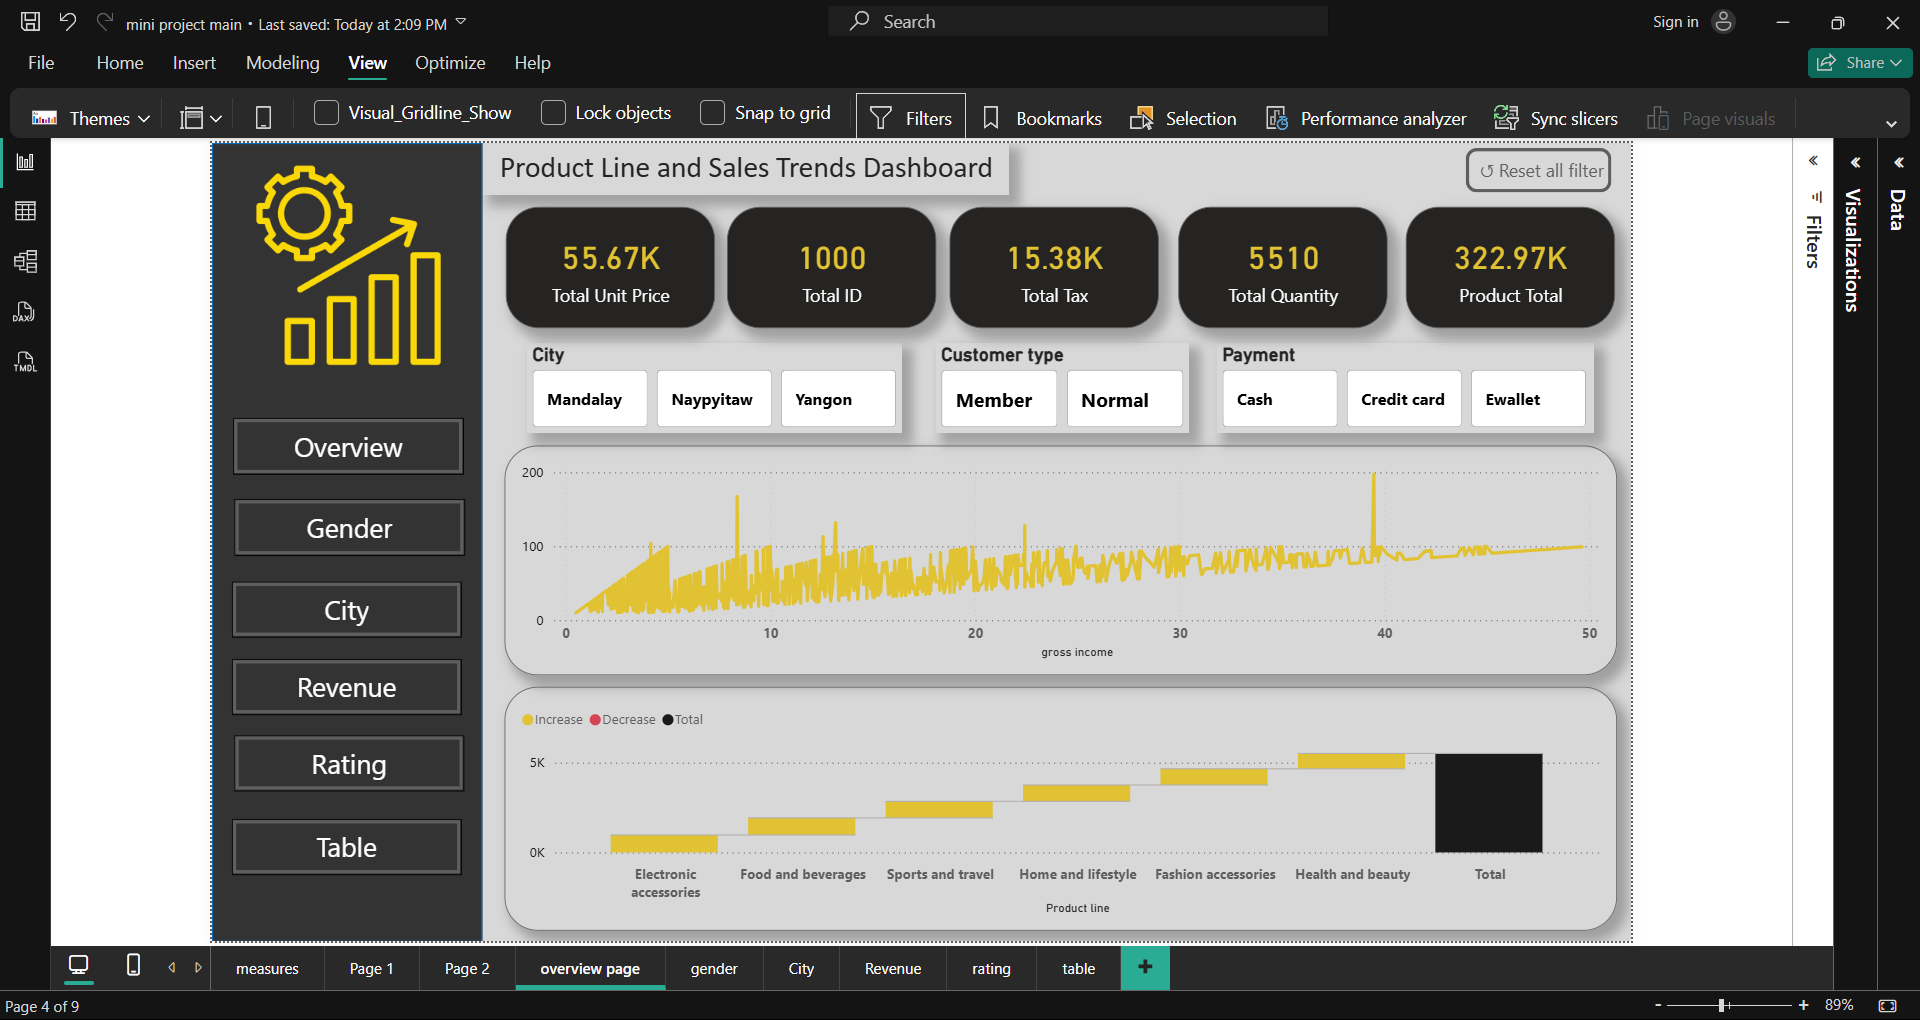

The dashboard page shown, as its layout file describes it:
{"tool":"powerbi","page":{"name":"overview page","canvas":[1280,720],"ordinal":3},"visuals":[{"type":"shape","box":[0,0,243.8,720.3],"z":0},{"type":"textbox","box":[244.3,0,474.3,47.1],"z":1000},{"type":"card","fields":{"Values":["Sheet1.Product Total"]},"box":[1076,57.2,189.1,109.5],"z":2000},{"type":"card","fields":{"Values":["Sheet1.Total ID"]},"box":[464,57.2,189.1,109.5],"z":3000},{"type":"card","fields":{"Values":["Sheet1.Total Quantity"]},"box":[870.8,57.2,189.1,109.5],"z":4000},{"type":"card","fields":{"Values":["Sheet1.Total Tax"]},"box":[665.5,57.2,189.1,109.5],"z":5000},{"type":"card","fields":{"Values":["Sheet1.Total Unit Price"]},"box":[265,57.2,189.1,109.5],"z":6000},{"type":"actionButton","box":[18.7,247.5,207.7,51],"z":7000},{"type":"actionButton","box":[19.9,320.9,207.7,51],"z":8000},{"type":"image","box":[18.7,19.9,207.7,180.4],"z":9000},{"type":"lineChart","title":"Unit price by  income","fields":{"Category":["Sheet1.gross income"],"Y":["Sum(Sheet1.Unit price)"]},"box":[264.3,272.9,1002.9,207.1],"z":10000},{"type":"waterfallChart","fields":{"Category":["Sheet1.Product line"],"Y":["Sum(Sheet1.Quantity)"]},"box":[264.3,490,1002.9,220],"z":11000},{"type":"advancedSlicerVisual","fields":{"Values":["Sheet1.City"]},"box":[284.3,180,338.6,81.4],"z":12000},{"type":"advancedSlicerVisual","fields":{"Values":["Sheet1.Customer type"]},"box":[652.9,180,228.6,81.4],"z":13000},{"type":"advancedSlicerVisual","fields":{"Values":["Sheet1.Payment"]},"box":[905.7,180,340,81.4],"z":14000},{"type":"actionButton","box":[1130,4.3,131.4,40],"z":15000},{"type":"actionButton","box":[18.6,395.7,207.1,50],"z":16000},{"type":"actionButton","box":[18.6,465.7,207.1,50],"z":17000},{"type":"actionButton","box":[20,534.3,207.1,50],"z":18000},{"type":"actionButton","box":[18.6,610,207.1,50],"z":19000}]}

Visuals, with their boxes on the page's 1280x720 design canvas (x1, y1, x2, y2). These are canvas units, not pixel positions in the 1920x1020 screenshot, which may show the page scaled, cropped or inside an application window:
shape: crop(0, 0, 244, 720)
textbox: crop(244, 0, 719, 47)
card - Sheet1.Product Total: crop(1076, 57, 1265, 167)
card - Sheet1.Total ID: crop(464, 57, 653, 167)
card - Sheet1.Total Quantity: crop(871, 57, 1060, 167)
card - Sheet1.Total Tax: crop(666, 57, 855, 167)
card - Sheet1.Total Unit Price: crop(265, 57, 454, 167)
actionButton: crop(19, 248, 226, 298)
actionButton: crop(20, 321, 228, 372)
image: crop(19, 20, 226, 200)
"Unit price by  income" lineChart: crop(264, 273, 1267, 480)
waterfallChart - Sheet1.Product line x Sum(Sheet1.Quantity): crop(264, 490, 1267, 710)
advancedSlicerVisual - Sheet1.City: crop(284, 180, 623, 261)
advancedSlicerVisual - Sheet1.Customer type: crop(653, 180, 882, 261)
advancedSlicerVisual - Sheet1.Payment: crop(906, 180, 1246, 261)
actionButton: crop(1130, 4, 1261, 44)
actionButton: crop(19, 396, 226, 446)
actionButton: crop(19, 466, 226, 516)
actionButton: crop(20, 534, 227, 584)
actionButton: crop(19, 610, 226, 660)
